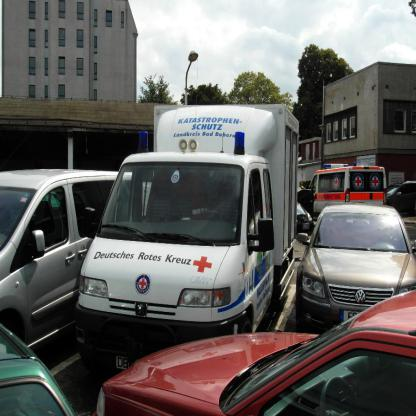Ambulance: (69, 102, 296, 374), (304, 161, 388, 215)
